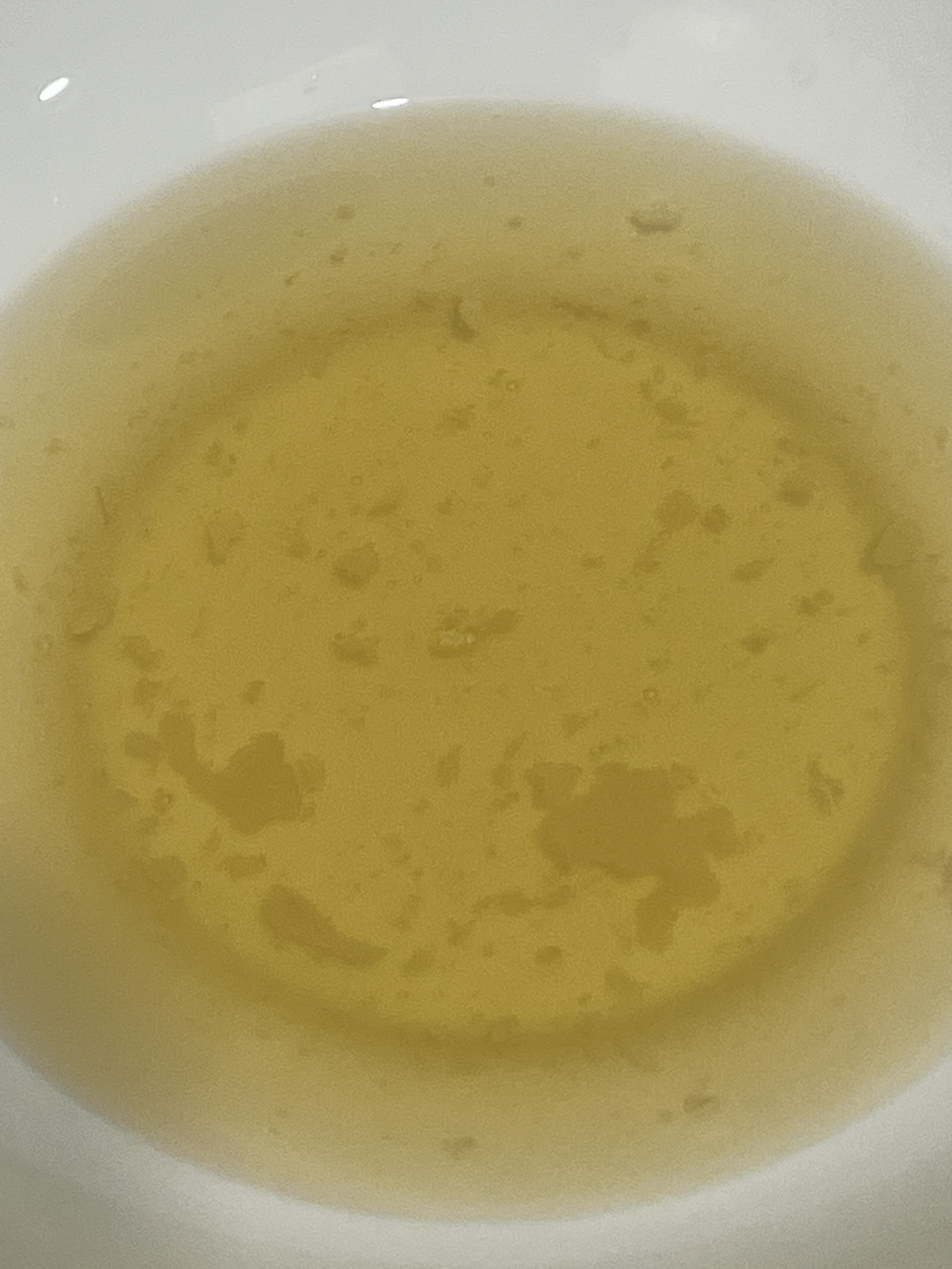reusable: (0, 104, 952, 1218)
